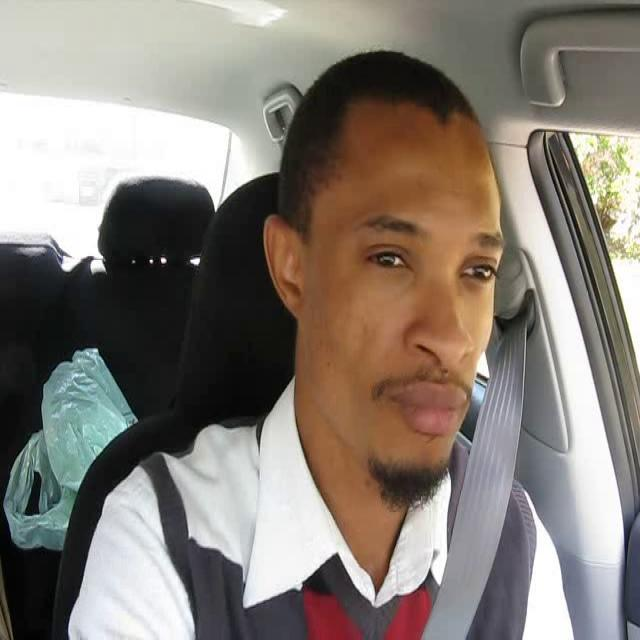close: (386, 372, 470, 438)
